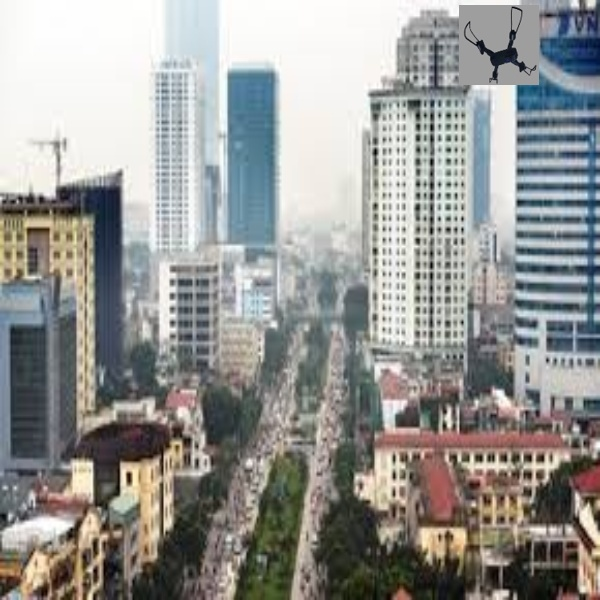drone: (463, 4, 538, 88)
